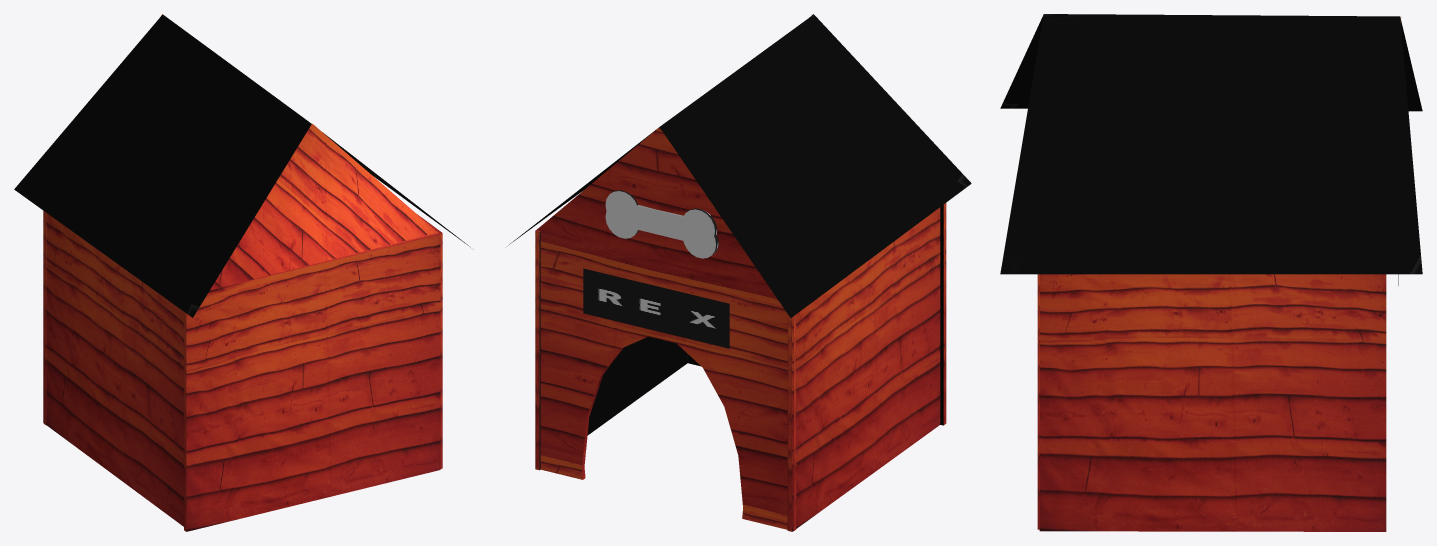
File: DogHouse.FBX
The picture shows the model from 3 angles, left to right: view 1: azimuth 30°, elevation 25°; view 2: azimuth 150°, elevation 25°; view 3: azimuth 270°, elevation 25°; orthographic projection. The views are drawn at different scales.
Parts seen in each view (by area): view 1: Pyramid001; view 2: Pyramid001; view 3: Pyramid001.
Part boxes in pixels (left/top/right/bottom): Pyramid001: left=14, top=14, right=473, bottom=531; Pyramid001: left=508, top=14, right=971, bottom=531; Pyramid001: left=1000, top=14, right=1422, bottom=531.
Bounding box in the file's own units: 39 × 49.38 × 42.67.
